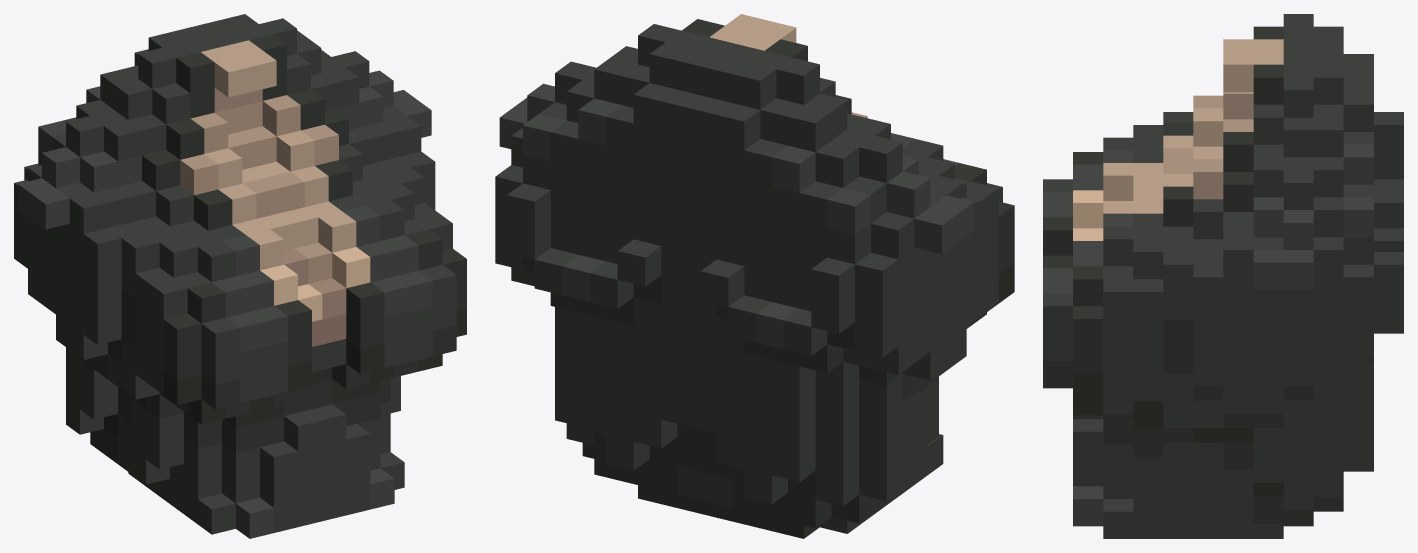
File: UpperBody_01_Mesh.fbx
3 views of the same model, side by side, from view 1: azimuth 30°, elevation 25°; view 2: azimuth 150°, elevation 25°; view 3: azimuth 270°, elevation 25° (orthographic). The views are drawn at different scales.
Visible parts, largest first — view 1: UpperBody_01_Mesh; view 2: UpperBody_01_Mesh; view 3: UpperBody_01_Mesh.
Boxes of the visible parts, bbox=[...] form: UpperBody_01_Mesh: bbox=[14, 14, 466, 538]; UpperBody_01_Mesh: bbox=[495, 14, 1014, 538]; UpperBody_01_Mesh: bbox=[1043, 14, 1403, 538].
Size of the model in its own units: 1.6 by 1.6 by 1.2.
1 material, 1 textured.
